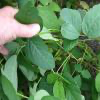Soyabean leaf: (24, 36, 55, 70), (60, 8, 82, 40), (34, 3, 60, 30), (60, 72, 83, 99), (4, 54, 17, 99), (82, 4, 99, 38), (52, 79, 65, 99), (46, 73, 57, 84)
